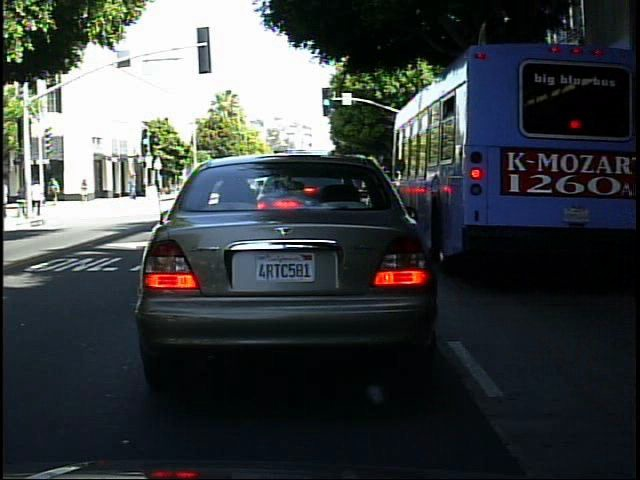person: (30, 176, 47, 219), (46, 173, 65, 207), (125, 170, 143, 204), (14, 179, 27, 221), (78, 173, 93, 207)
